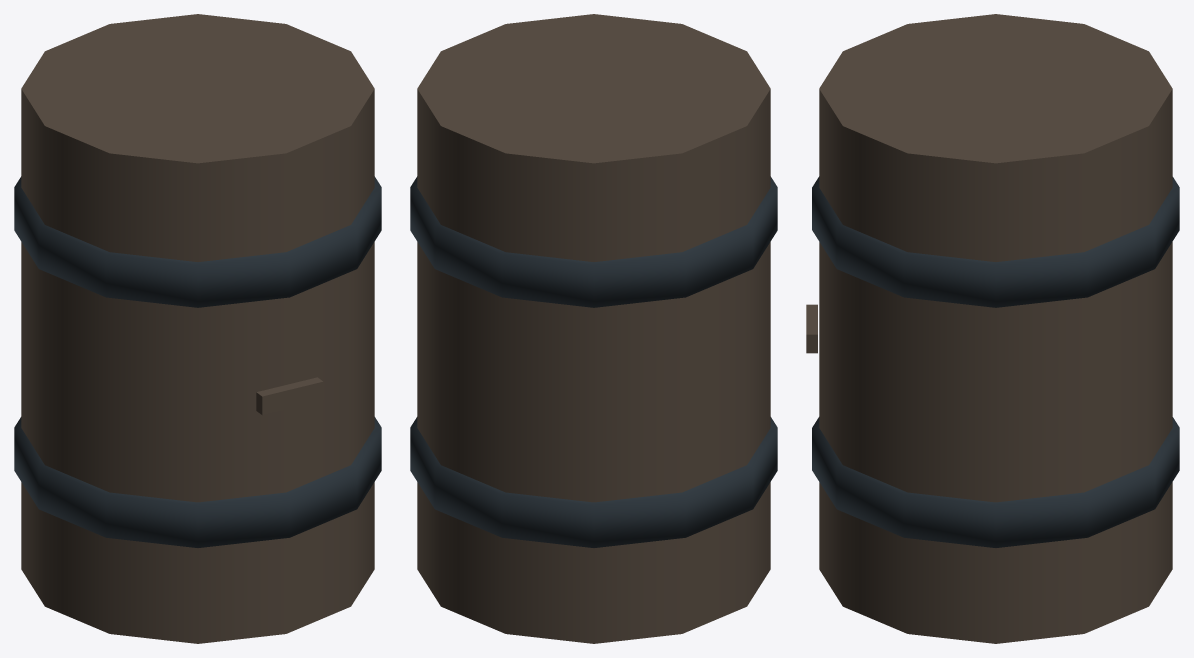
The model's file is barrel-2.glb.
3 views of the same model, side by side, from view 1: azimuth 30°, elevation 25°; view 2: azimuth 150°, elevation 25°; view 3: azimuth 270°, elevation 25° (orthographic).
Visible parts, largest first — view 1: barrel/1/KR-230-2; view 2: barrel/1/KR-230-2; view 3: barrel/1/KR-230-2.
Boxes of the visible parts, bbox=[...] form: barrel/1/KR-230-2: bbox=[14, 14, 381, 643]; barrel/1/KR-230-2: bbox=[410, 14, 777, 643]; barrel/1/KR-230-2: bbox=[806, 14, 1179, 643].
Size of the model in its own units: 0.624 by 0.9 by 0.634.
